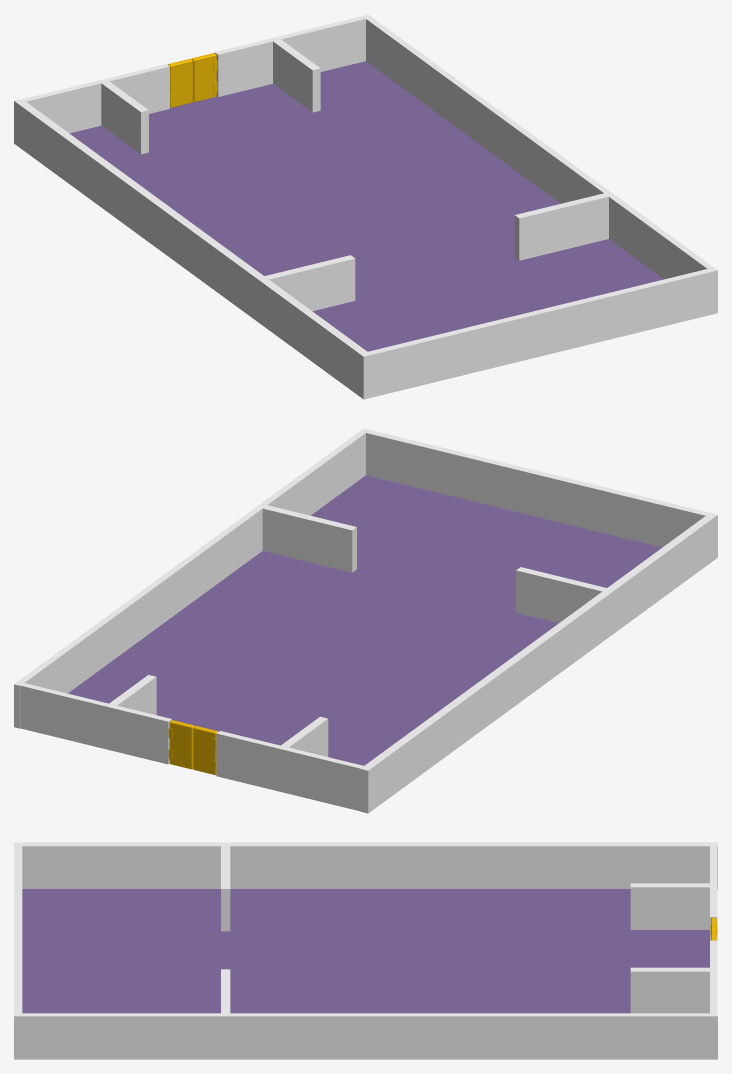
The model's file is maps_94.fbx.
3 views of the same model, one above another, from view 1: azimuth 30°, elevation 25°; view 2: azimuth 150°, elevation 25°; view 3: azimuth 270°, elevation 25° (orthographic).
Parts seen in each view (by area): view 1: wall_01_08_geo, wall_01_07_geo, wall_01_05_geo, wall_01_06_geo, wall_01_09_geo1, wall_01_09_geo, wall_01_07_geo4, wall_01_07_geo5, wall_01_07_geo3, wall_01_07_geo2, polySurface161, polySurface165; view 2: wall_01_08_geo, wall_01_07_geo, wall_01_06_geo, wall_01_05_geo, wall_01_09_geo1, wall_01_09_geo, wall_01_07_geo4, wall_01_07_geo5, polySurface161, wall_01_07_geo3, wall_01_07_geo2, polySurface165; view 3: wall_01_08_geo, wall_01_06_geo, wall_01_07_geo, wall_01_07_geo2, wall_01_07_geo3, wall_01_05_geo, wall_01_07_geo5, wall_01_09_geo, wall_01_09_geo1, wall_01_07_geo4.
Boxes of the visible parts, left/top/right/bottom form: wall_01_08_geo: left=69, top=61, right=663, bottom=351; wall_01_07_geo: left=14, top=99, right=371, bottom=399; wall_01_05_geo: left=368, top=269, right=711, bottom=397; wall_01_06_geo: left=362, top=14, right=717, bottom=314; wall_01_09_geo1: left=214, top=16, right=365, bottom=96; wall_01_09_geo: left=22, top=64, right=169, bottom=133; wall_01_07_geo4: left=514, top=193, right=608, bottom=260; wall_01_07_geo5: left=264, top=255, right=355, bottom=311; wall_01_07_geo3: left=101, top=81, right=148, bottom=154; wall_01_07_geo2: left=273, top=39, right=320, bottom=112; polySurface161: left=191, top=53, right=217, bottom=102; polySurface165: left=168, top=59, right=192, bottom=107; wall_01_08_geo: left=68, top=475, right=661, bottom=765; wall_01_07_geo: left=360, top=513, right=717, bottom=813; wall_01_06_geo: left=14, top=428, right=369, bottom=728; wall_01_05_geo: left=366, top=430, right=709, bottom=547; wall_01_09_geo1: left=20, top=683, right=171, bottom=764; wall_01_09_geo: left=216, top=731, right=363, bottom=811; wall_01_07_geo4: left=262, top=505, right=356, bottom=572; wall_01_07_geo5: left=516, top=567, right=606, bottom=622; polySurface161: left=168, top=720, right=194, bottom=769; wall_01_07_geo3: left=281, top=716, right=328, bottom=756; wall_01_07_geo2: left=109, top=675, right=156, bottom=715; polySurface165: left=193, top=726, right=217, bottom=775; wall_01_08_geo: left=22, top=889, right=709, bottom=1013; wall_01_06_geo: left=14, top=1013, right=717, bottom=1059; wall_01_07_geo: left=14, top=842, right=717, bottom=889; wall_01_07_geo2: left=630, top=967, right=710, bottom=1013; wall_01_07_geo3: left=630, top=883, right=709, bottom=929; wall_01_05_geo: left=14, top=846, right=22, bottom=1013; wall_01_07_geo5: left=221, top=846, right=230, bottom=931; wall_01_09_geo: left=710, top=846, right=717, bottom=940; wall_01_09_geo1: left=710, top=940, right=717, bottom=1013; wall_01_07_geo4: left=221, top=969, right=230, bottom=1013.
Size of the model in its own units: 76.85 by 8.89 by 131.
Materials: 2 (2 with a texture image).
